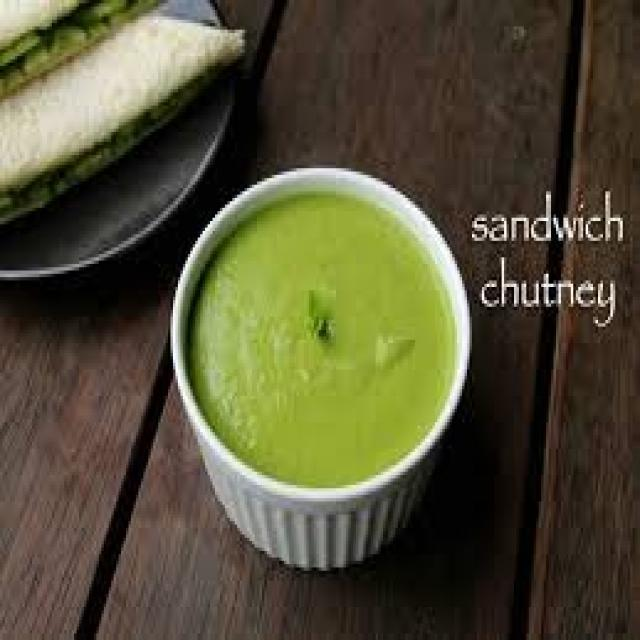puthina chutney: (176, 168, 472, 508)
